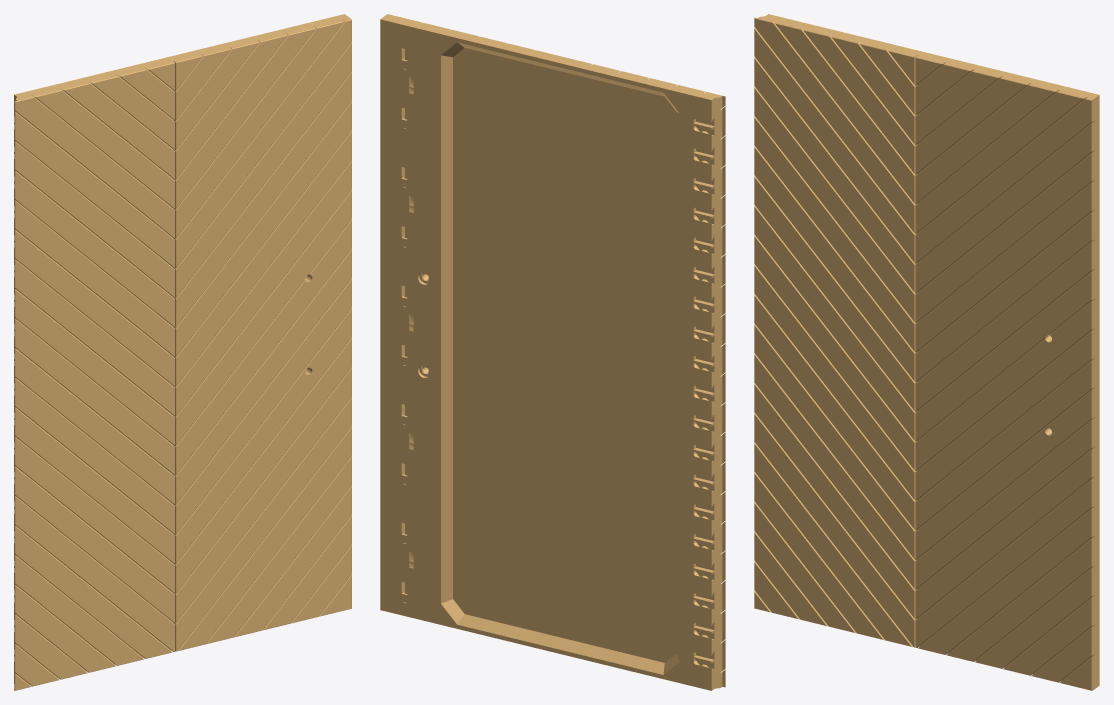
The model's file is Door_Chevron_2W-5H.lib.glb.
The picture shows the model from 3 angles, left to right: view 1: azimuth 30°, elevation 25°; view 2: azimuth 150°, elevation 25°; view 3: azimuth 330°, elevation 25°; orthographic projection.
Parts seen in each view (by area): view 1: Door_Chevron_2W-5H; view 2: Door_Chevron_2W-5H; view 3: Door_Chevron_2W-5H.
Boxes of the visible parts, <box> form: Door_Chevron_2W-5H: <box>14,14,351,690</box>; Door_Chevron_2W-5H: <box>380,14,725,690</box>; Door_Chevron_2W-5H: <box>754,14,1099,690</box>.
Bounding box in the file's own units: 167 × 279 × 6.51.
